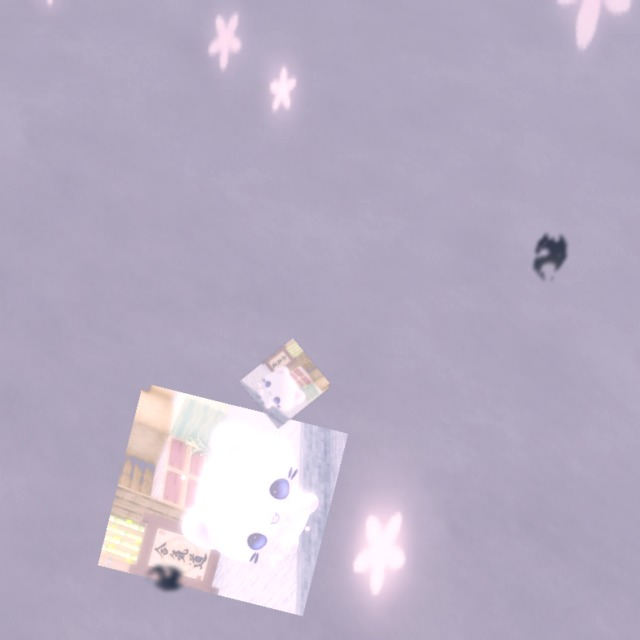urso_branco: (97, 382, 349, 617), (239, 338, 332, 429)
urso_preto: (517, 220, 583, 293), (138, 554, 193, 602)
